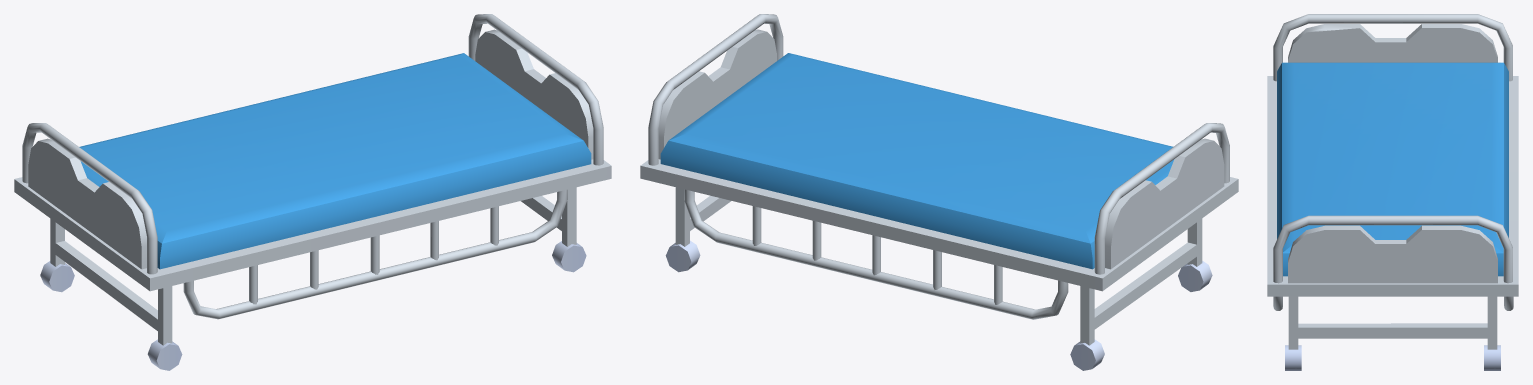
The model's file is HospitalBed.fbx.
3 views of the same model, side by side, from view 1: azimuth 30°, elevation 25°; view 2: azimuth 150°, elevation 25°; view 3: azimuth 270°, elevation 25° (orthographic). The views are drawn at different scales.
Parts seen in each view (by area): view 1: HospitalBed; view 2: HospitalBed; view 3: HospitalBed.
Boxes of the visible parts, <box> form: HospitalBed: <box>14,14,611,370</box>; HospitalBed: <box>640,14,1238,370</box>; HospitalBed: <box>1267,14,1518,370</box>.
Bounding box in the file's own units: 302 × 110 × 154.
